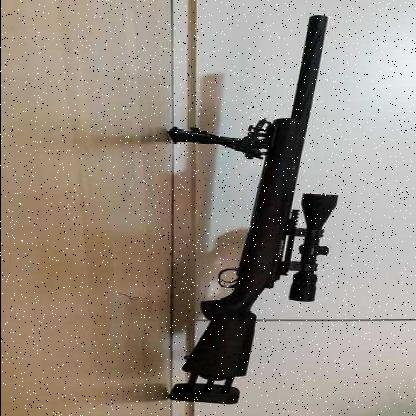rifle: (133, 13, 389, 414)
